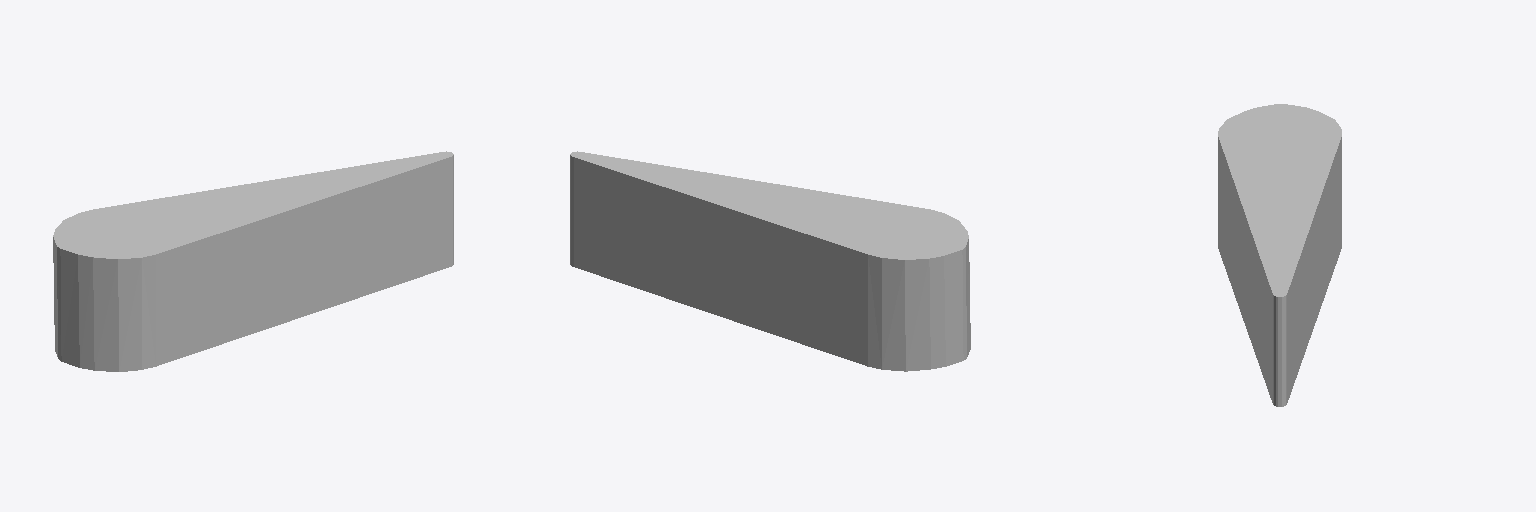
File: flipper.obj
3 views of the same model, side by side, from view 1: azimuth 30°, elevation 25°; view 2: azimuth 150°, elevation 25°; view 3: azimuth 270°, elevation 25° (orthographic).
Visible parts, largest first — view 1: flipper.obj; view 2: flipper.obj; view 3: flipper.obj.
Part boxes in pixels (x1,y1,x2,y2): flipper.obj: (53, 151, 453, 371); flipper.obj: (570, 151, 970, 371); flipper.obj: (1218, 104, 1341, 406).
Size of the model in its own units: 1.5 by 0.408 by 0.408.